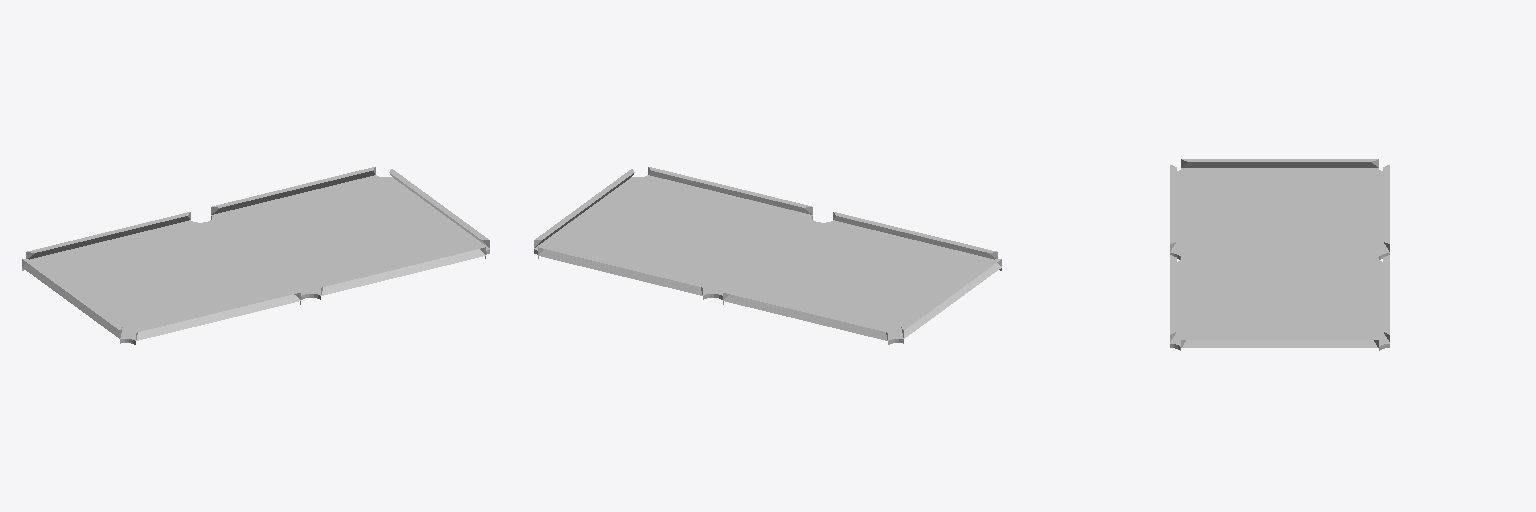
Rendered from poolgrass.obj.
3 renders of one model, left to right at view 1: azimuth 30°, elevation 25°; view 2: azimuth 150°, elevation 25°; view 3: azimuth 270°, elevation 25°, orthographic.
Visible parts, largest first — view 1: green.003; view 2: green.003; view 3: green.003.
Boxes of the visible parts, <box> form: green.003: <box>22,167,489,344</box>; green.003: <box>534,167,1001,344</box>; green.003: <box>1170,159,1389,350</box>.
Bounding box in the file's own units: 182 × 6 × 94.